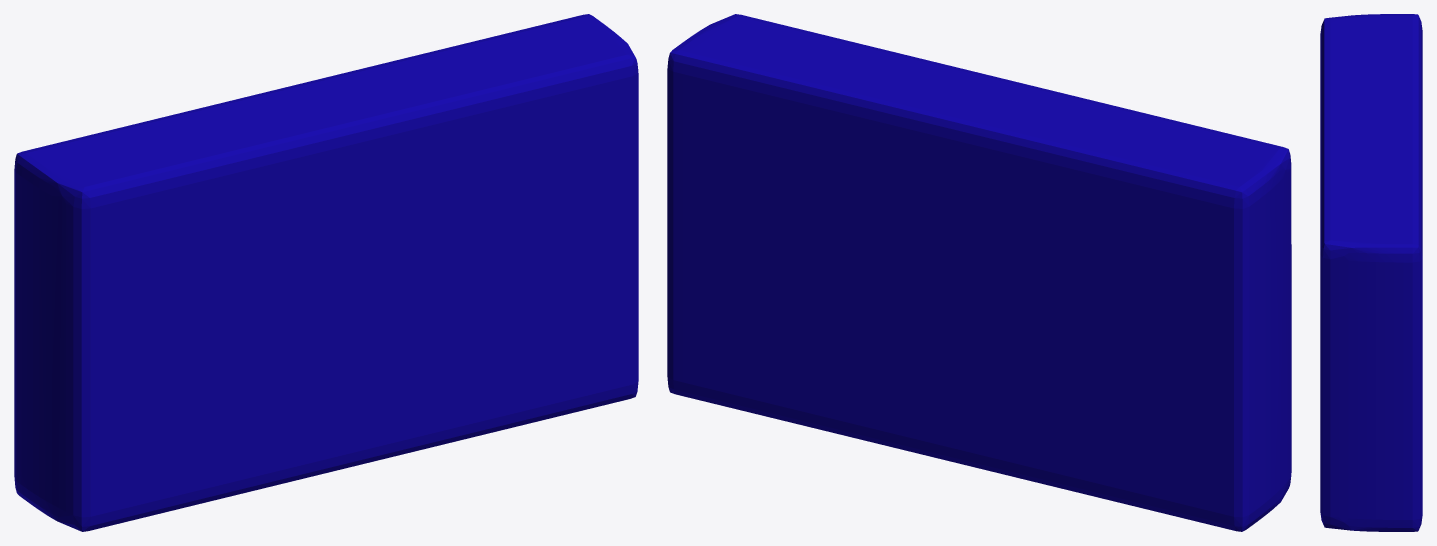
The model's file is pelvis_part_5.obj.
The picture shows the model from 3 angles, left to right: view 1: azimuth 30°, elevation 25°; view 2: azimuth 150°, elevation 25°; view 3: azimuth 270°, elevation 25°; orthographic projection. The views are drawn at different scales.
Size of the model in its own units: 0.1405 by 0.0792 by 0.0256.
